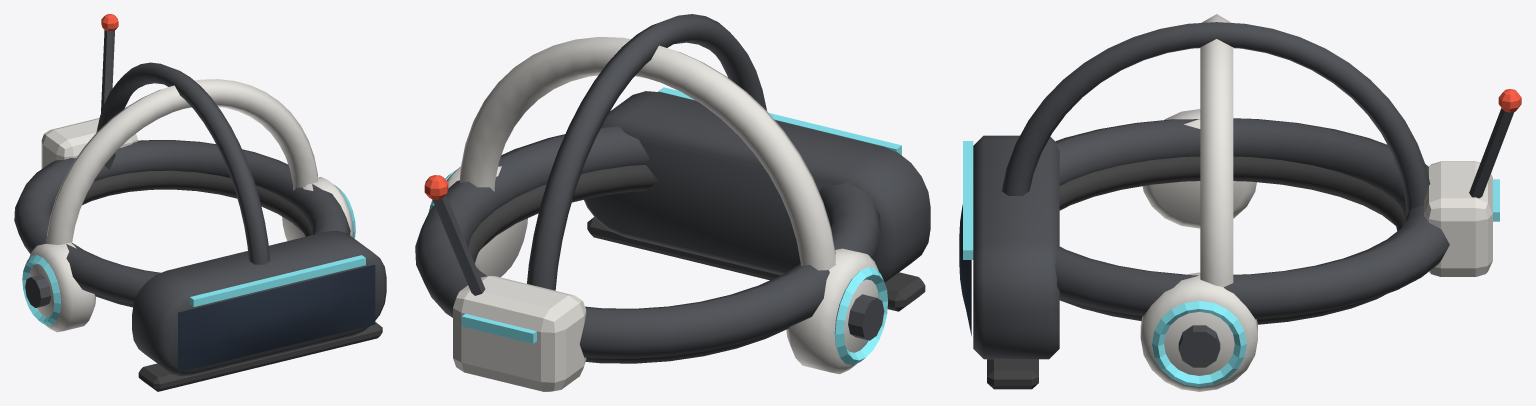
Rendered from Garage_NeuroHeadset.glb.
3 renders of one model, left to right at view 1: azimuth 30°, elevation 25°; view 2: azimuth 150°, elevation 25°; view 3: azimuth 270°, elevation 25°, orthographic. The views are drawn at different scales.
Parts seen in each view (by area): view 1: Garage_NeuroHeadset; view 2: Garage_NeuroHeadset; view 3: Garage_NeuroHeadset.
Part boxes in pixels (x1,y1,x2,y2): Garage_NeuroHeadset: (14,14,386,391); Garage_NeuroHeadset: (415,14,930,391); Garage_NeuroHeadset: (959,14,1521,391).
Bounding box in the file's own units: 0.272 × 0.19 × 0.3258.
